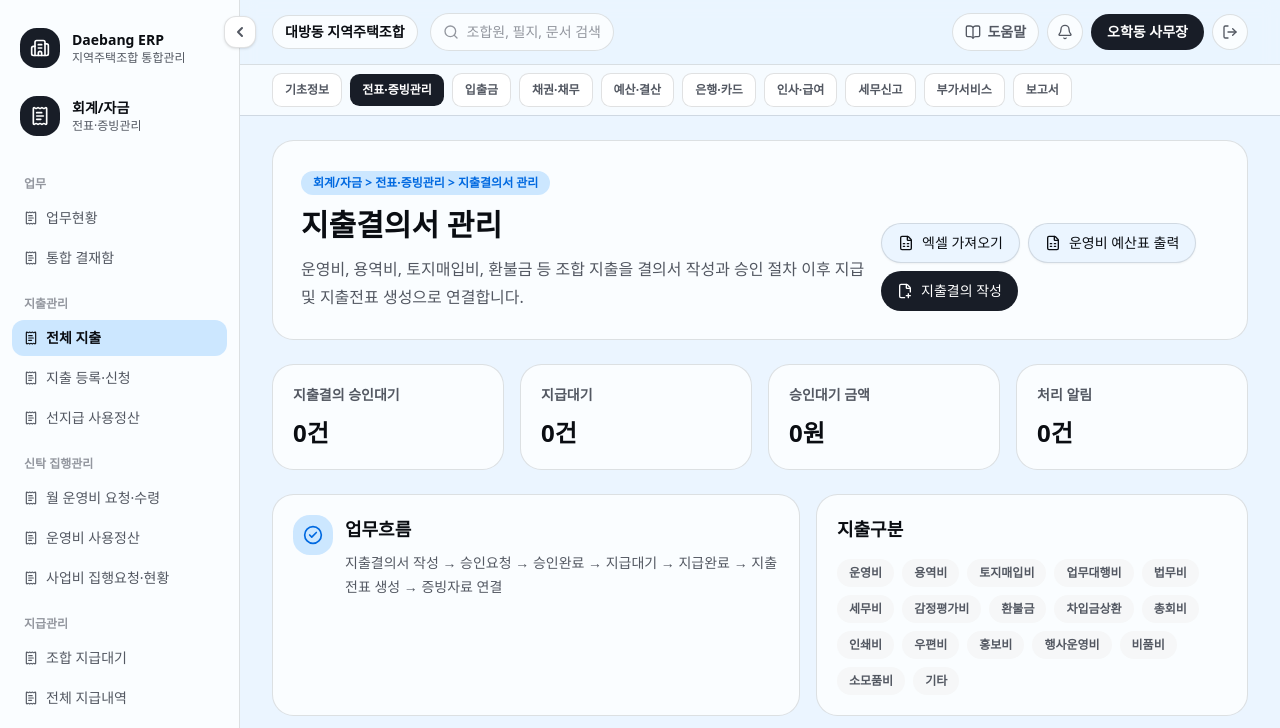
ExpenseResolutionPage › uses the server-wide next number when creating from a paginated result
Click the button "지출결의 작성" at (949, 291), box [881,271,1018,311]
(page scrolled)
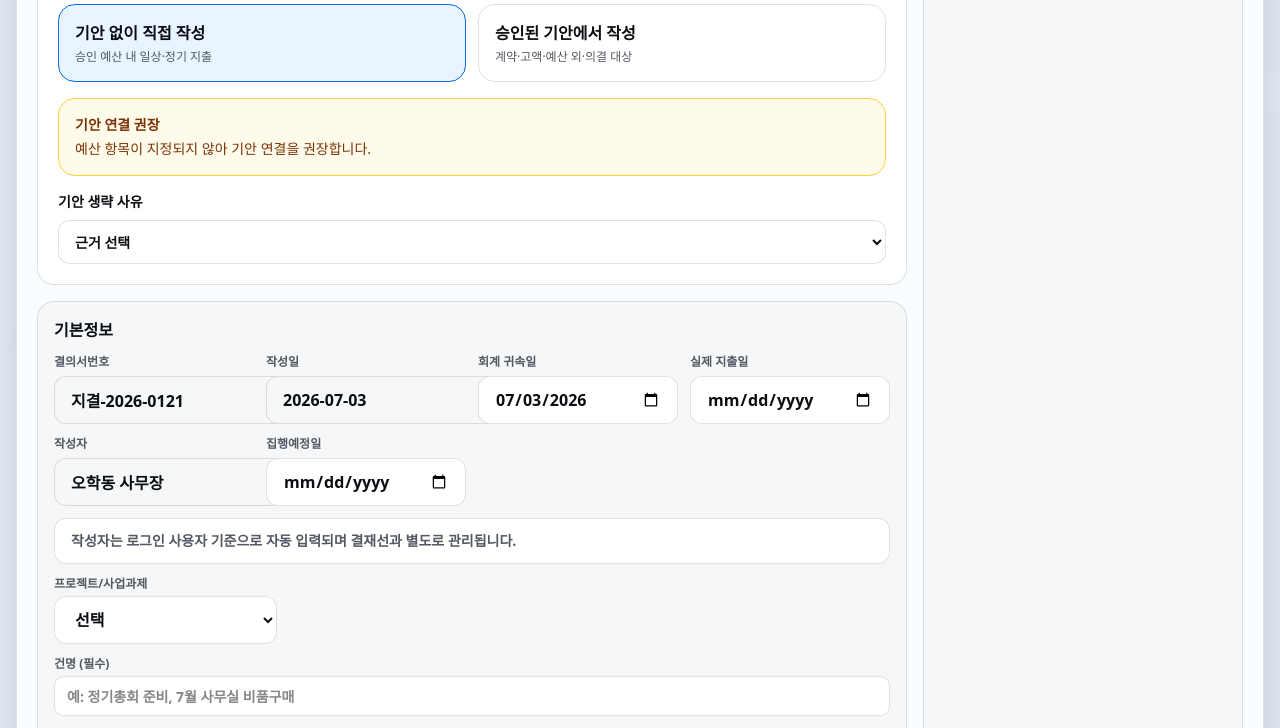
expect the field labelled "결의서번호" holds "지결-2026-0121": met, box [54,376,333,424]
